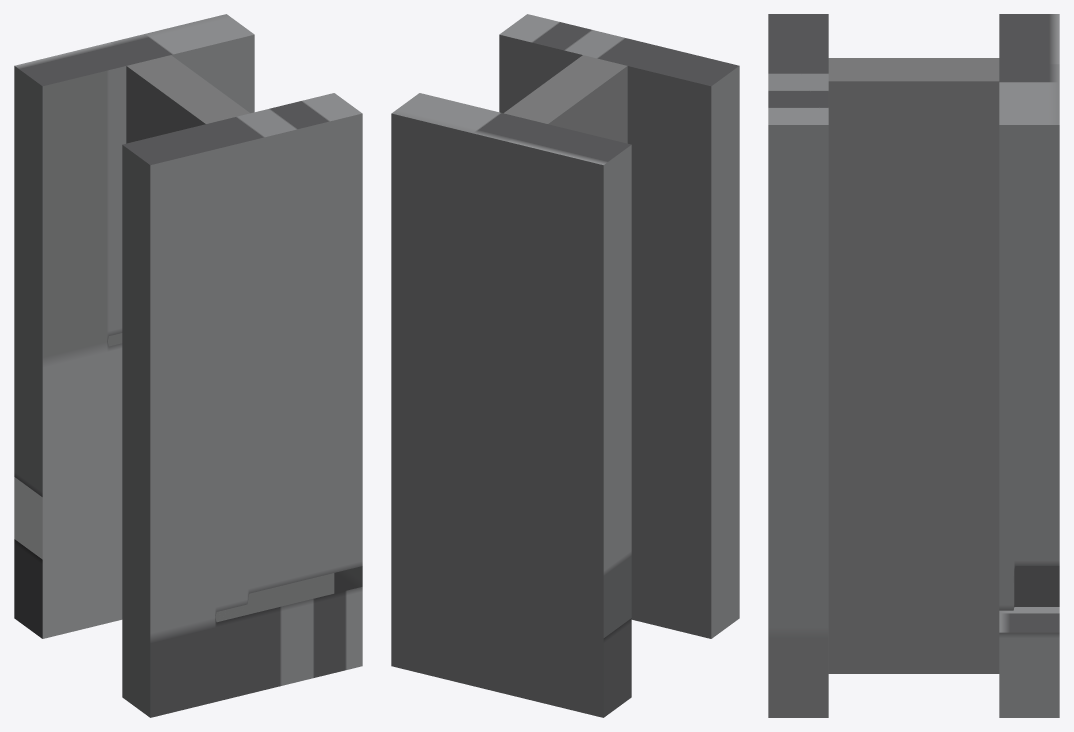
The picture shows the model from 3 angles, left to right: view 1: azimuth 30°, elevation 25°; view 2: azimuth 150°, elevation 25°; view 3: azimuth 270°, elevation 25°; orthographic projection. The views are drawn at different scales.
Bounding box in the file's own units: 0.2 × 0.498 × 0.222.
